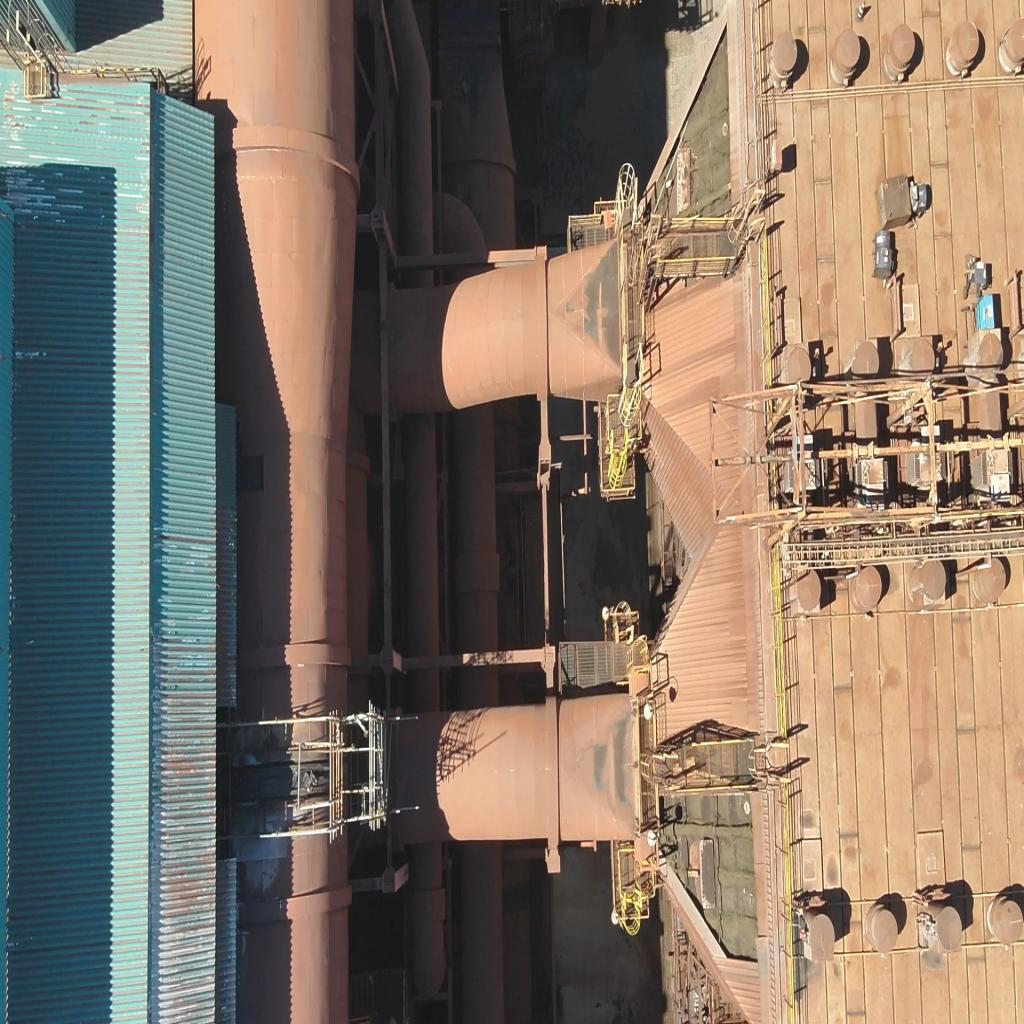Failures: (655, 52, 735, 288), (670, 792, 753, 956)
